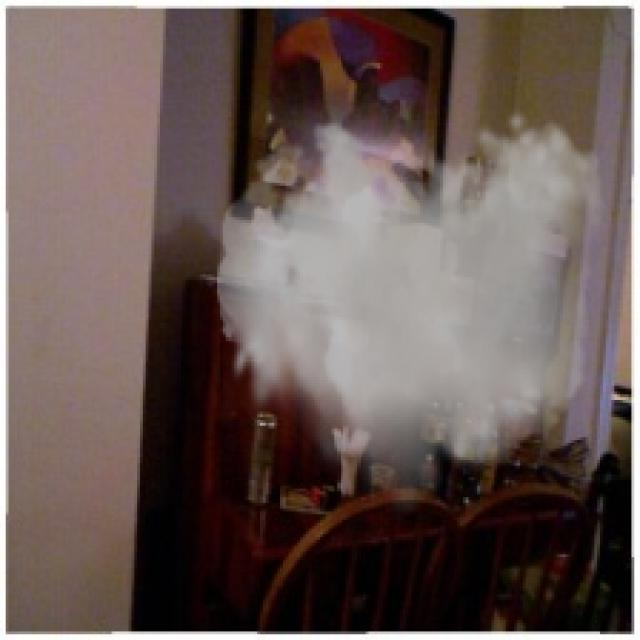smoke: (217, 108, 606, 523)
